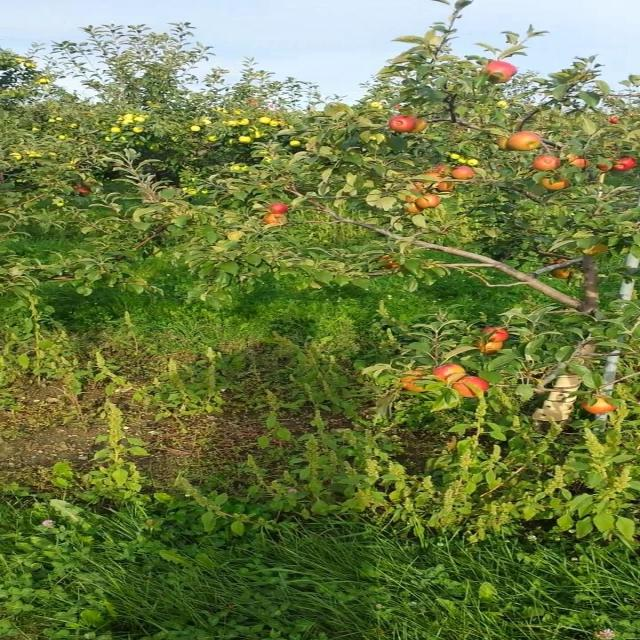apple: (454, 376, 491, 399), (582, 396, 619, 416), (483, 64, 519, 84), (433, 364, 469, 383), (511, 132, 542, 152), (532, 156, 562, 172), (404, 372, 428, 392), (476, 340, 505, 356), (483, 328, 512, 343), (554, 376, 583, 391), (390, 116, 412, 132), (540, 180, 569, 192), (497, 136, 516, 151), (419, 196, 441, 208), (454, 168, 476, 180), (568, 156, 590, 168), (269, 204, 292, 215), (618, 160, 639, 172), (589, 244, 610, 256), (404, 204, 425, 215), (383, 256, 402, 268), (596, 160, 615, 172), (262, 216, 286, 225), (554, 268, 571, 280), (412, 120, 428, 132), (440, 180, 455, 192), (433, 164, 453, 173), (404, 196, 420, 204), (77, 188, 92, 196), (412, 184, 427, 192), (426, 172, 441, 180), (547, 260, 567, 264)
